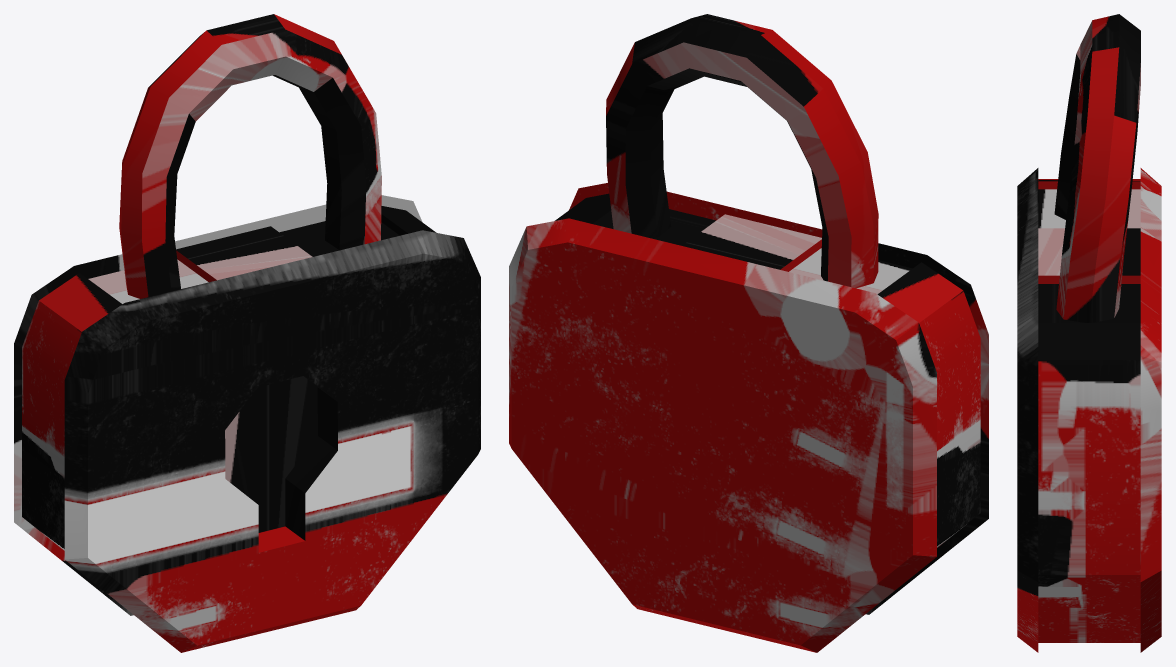
Rendered from steel.gltf.
3 renders of one model, left to right at view 1: azimuth 30°, elevation 25°; view 2: azimuth 150°, elevation 25°; view 3: azimuth 270°, elevation 25°, orthographic. The views are drawn at different scales.
Visible parts, largest first — view 1: lcok; view 2: lcok; view 3: lcok.
Part boxes in pixels (<box>): lcok: <box>14,14,480,652</box>; lcok: <box>509,14,988,652</box>; lcok: <box>1017,14,1161,652</box>.
Bounding box in the file's own units: 0.1882 × 0.2495 × 0.0558.
